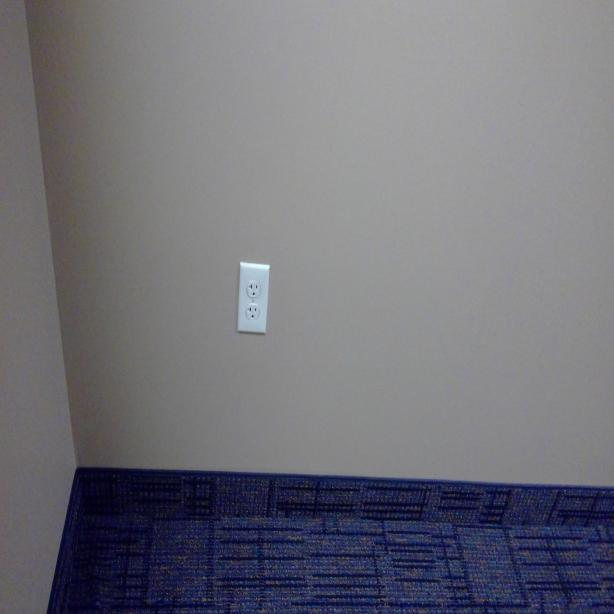typeb: (248, 279, 260, 299), (246, 303, 261, 319)
